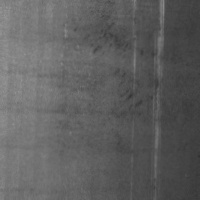scratches: (149, 2, 165, 194)
